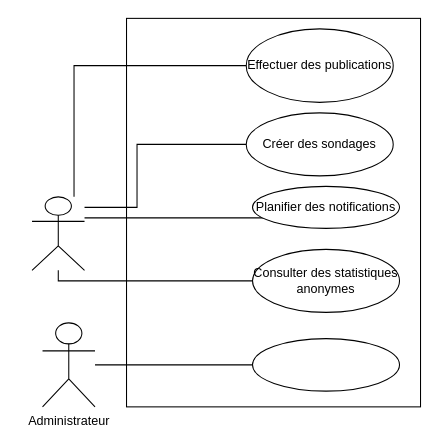
The diagram is 439 pixels wide and 447 high, and some of its shapes have lost their labels. Each missing label, with the centre of its shape:
Autorité locale: pixel 58 233
Valider l'inscription: pixel 325 364
